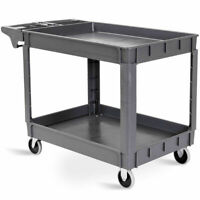Carts: (1, 19, 198, 189)
